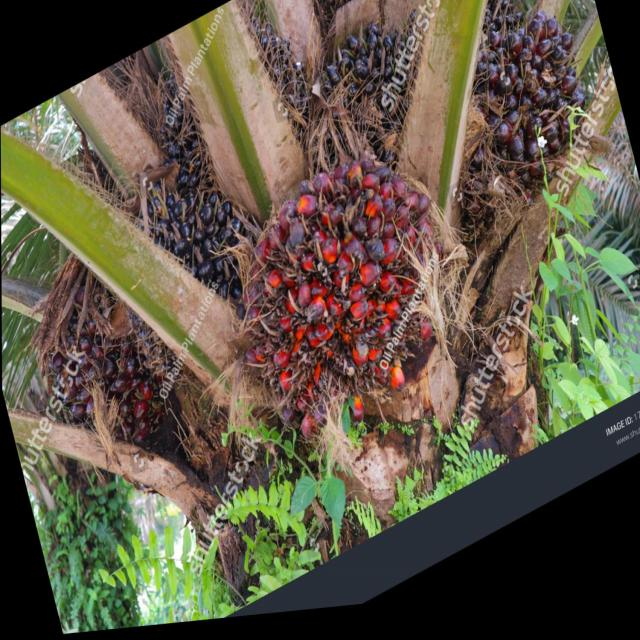Ripefruit: (216, 119, 478, 488)
